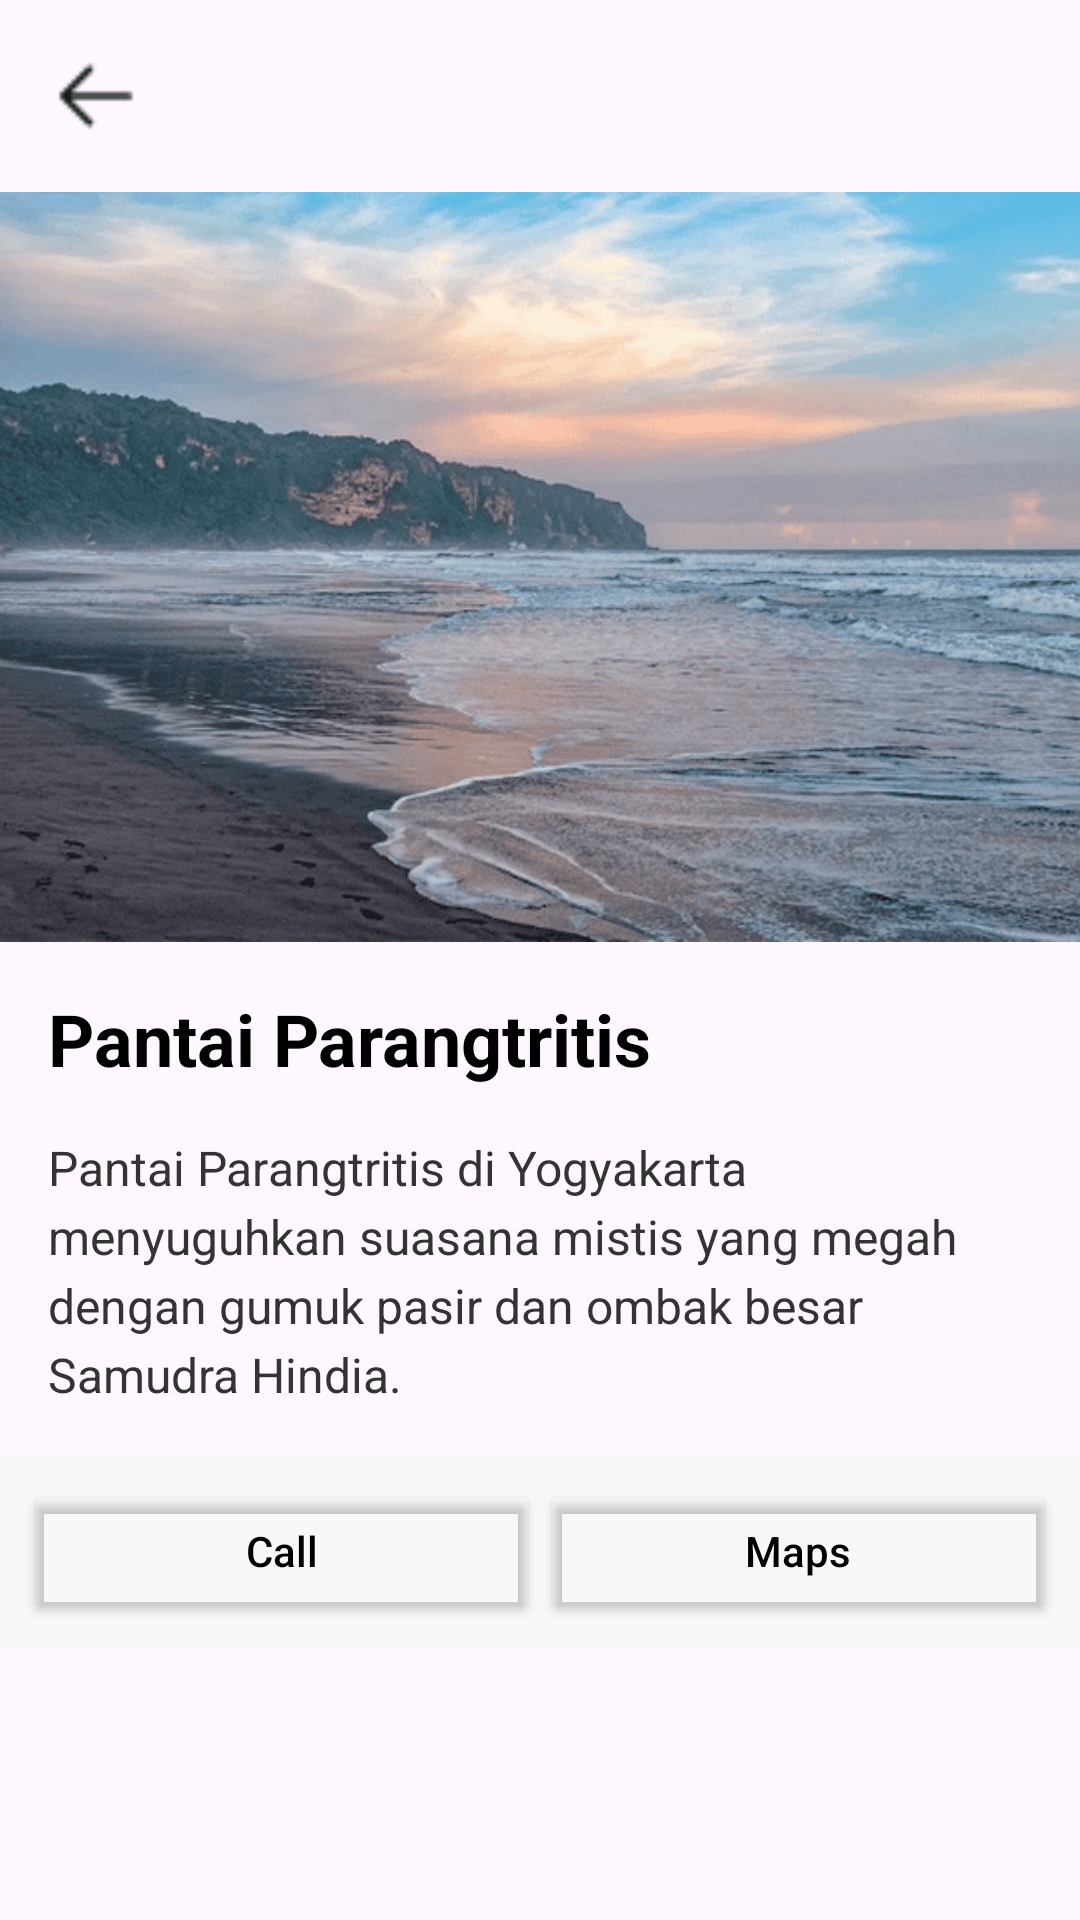

Locate icon controls on the screen. Image size 1080px×1920px, boxes as (x1, y1, x2, y2).
kembali: (59, 63, 133, 129)
